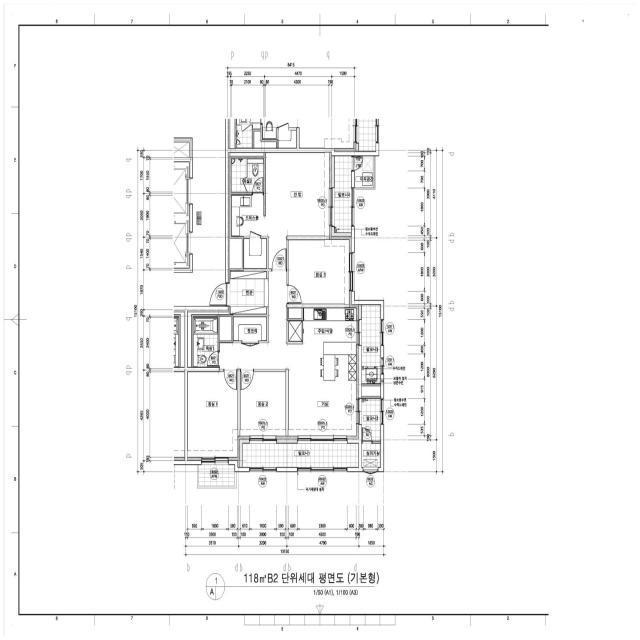space_balconi: (243, 444, 358, 467), (362, 305, 380, 384), (335, 156, 351, 233), (362, 399, 381, 441)
space_bedroom: (266, 152, 331, 269), (187, 372, 239, 467), (289, 236, 352, 304), (240, 372, 286, 439)
space_dressroom: (232, 195, 266, 236), (244, 239, 267, 268)
space_elevator: (174, 162, 189, 218), (174, 218, 189, 268)
space_elevator_hall: (174, 119, 225, 306)
space_front: (228, 271, 268, 314)
space_kitchen: (289, 305, 359, 381)
space_living_room: (220, 271, 359, 439)
space_other: (188, 311, 230, 367), (234, 317, 266, 340), (228, 239, 242, 269), (220, 317, 231, 341), (362, 386, 380, 396), (289, 308, 302, 318)
space_outdoor_room: (362, 444, 381, 467)
space_toilet: (194, 317, 218, 367), (232, 159, 263, 192)
